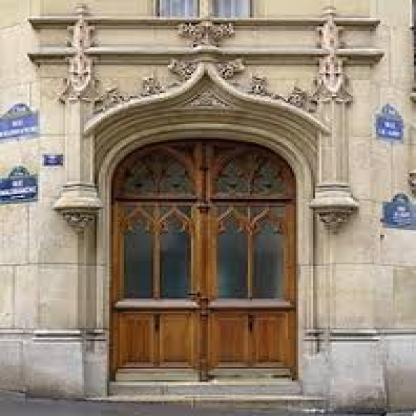door: (109, 196, 296, 375)
